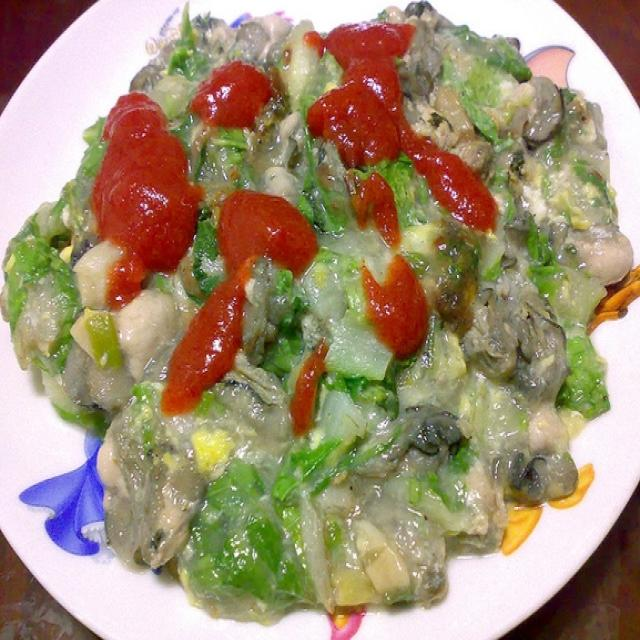熟制海鲜: (10, 4, 631, 624)
